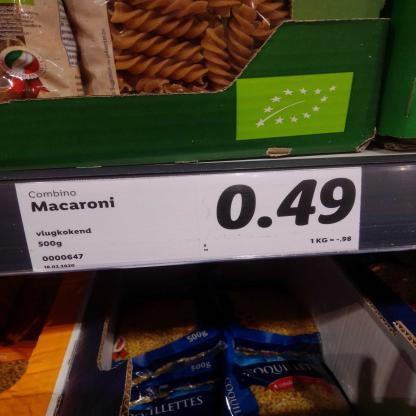prtg: (15, 167, 362, 273)
